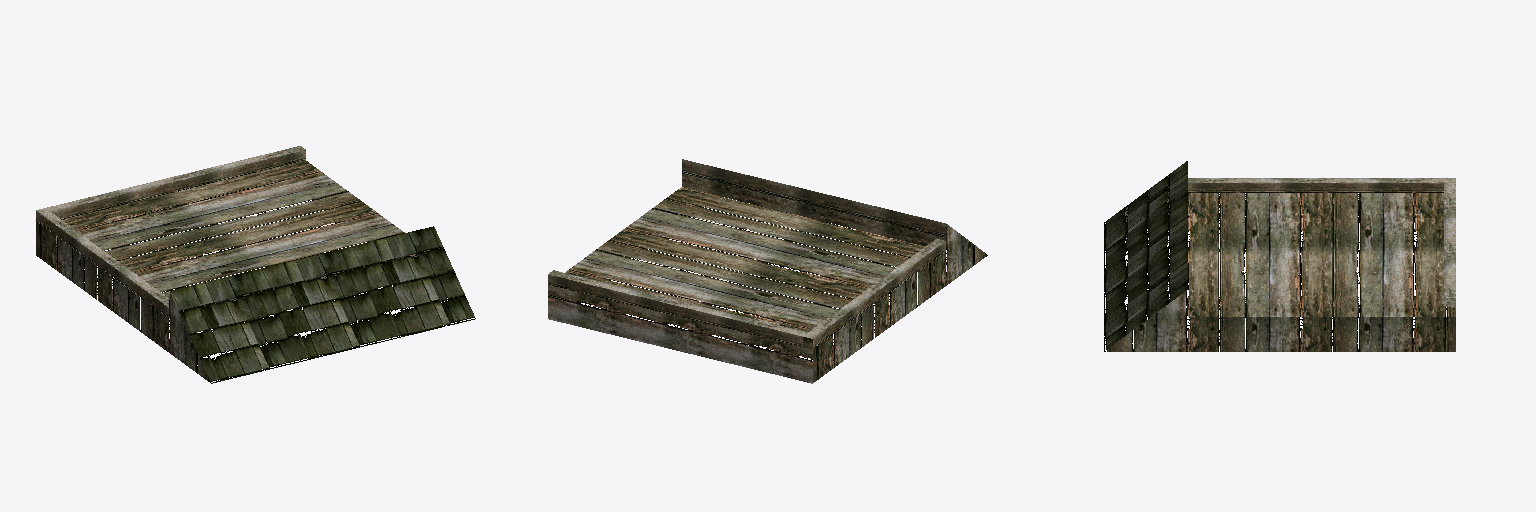
The picture shows the model from 3 angles: view 1: azimuth 30°, elevation 25°; view 2: azimuth 150°, elevation 25°; view 3: azimuth 270°, elevation 25°; orthographic projection.
Visible parts, largest first — view 1: Mesh_0, Mesh_1; view 2: Mesh_0; view 3: Mesh_0, Mesh_1.
Boxes of the visible parts, <box> form: Mesh_0: <box>36,146,458,382</box>; Mesh_1: <box>170,226,475,383</box>; Mesh_0: <box>548,159,987,383</box>; Mesh_0: <box>1105,176,1455,351</box>; Mesh_1: <box>1104,161,1187,351</box>.
Size of the model in its own units: 4 by 0.9004 by 4.6.
Materials: 2 (2 with a texture image).